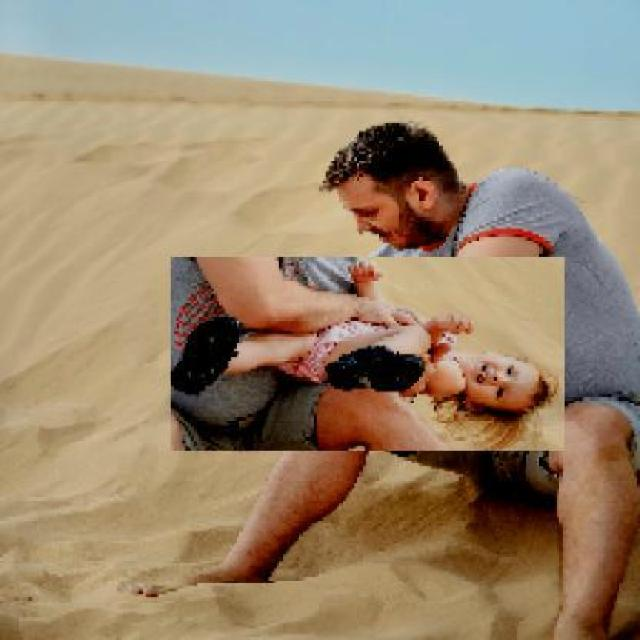child: (169, 257, 565, 452)
